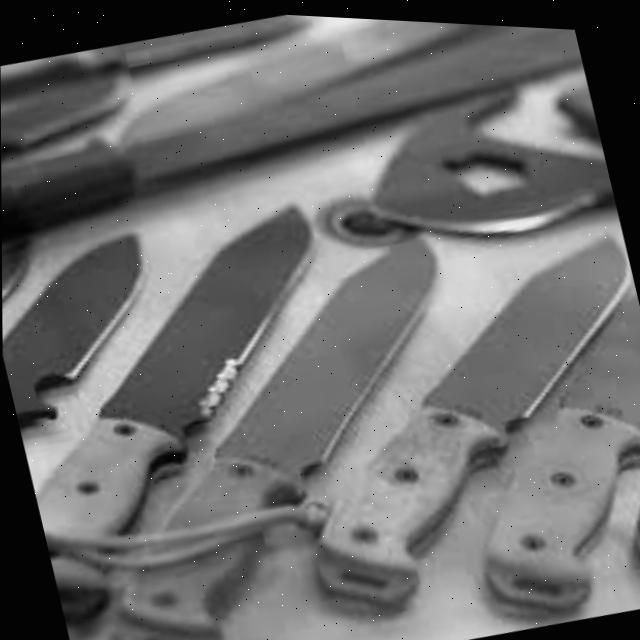Knife: (36, 206, 523, 640), (1, 182, 393, 634), (0, 0, 602, 281), (250, 203, 640, 630), (1, 221, 203, 540), (0, 0, 325, 136), (0, 48, 151, 193), (1, 231, 81, 459)
